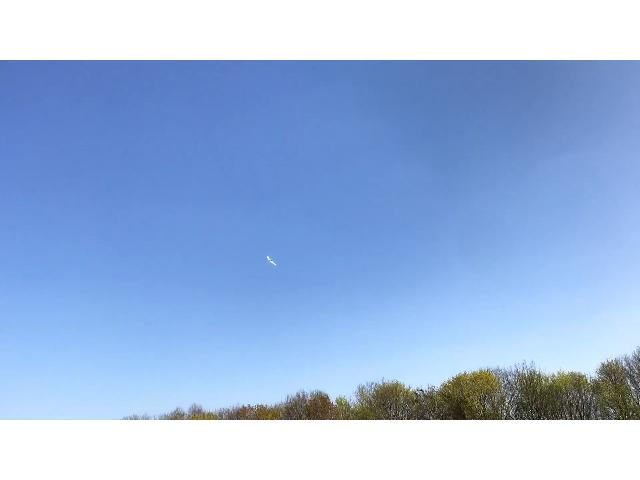Anti-Drone: (258, 252, 286, 272)
